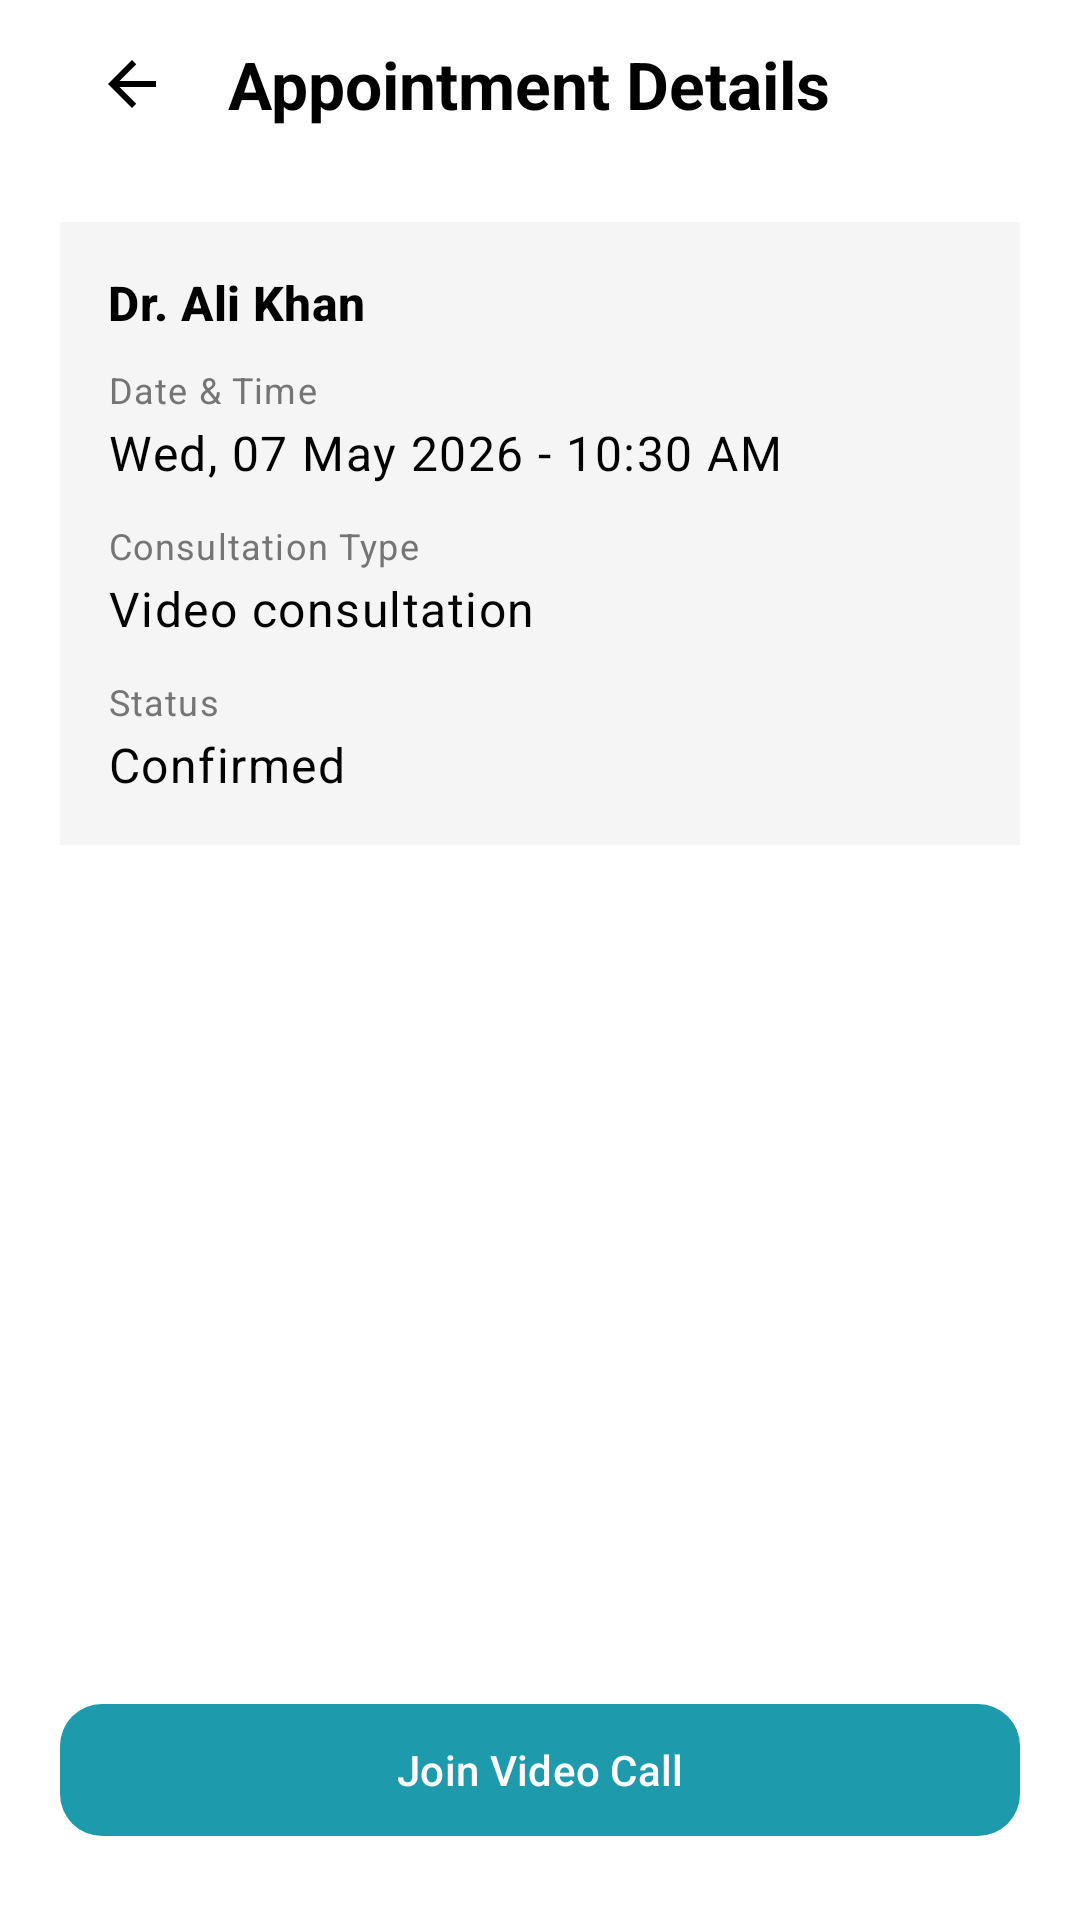

Icons on this 1080 × 1920 Android screen, each with its box as BBox(x1, y1, x2, y2):
Back: BBox(108, 60, 156, 108)
